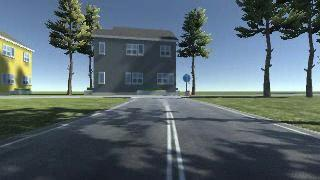turn_left: (183, 73, 191, 82)
